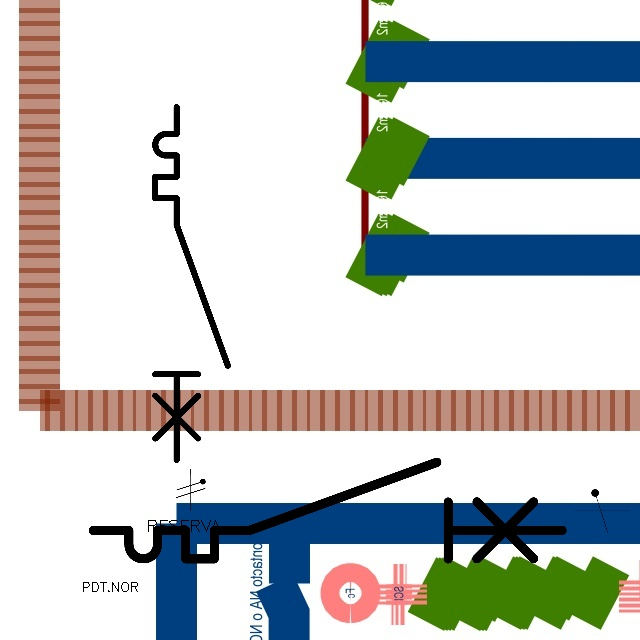interruptor_termomagnetico: (81, 450, 574, 571), (146, 98, 237, 469)
